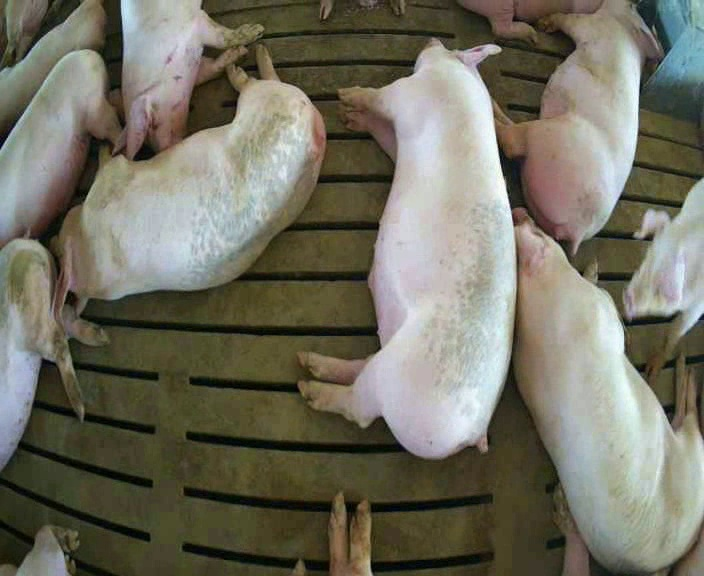pig: (298, 39, 515, 458), (50, 45, 324, 323), (514, 209, 703, 573), (496, 2, 660, 254), (0, 229, 109, 469), (0, 51, 123, 246), (114, 2, 262, 159), (624, 178, 703, 373), (0, 2, 105, 137)
